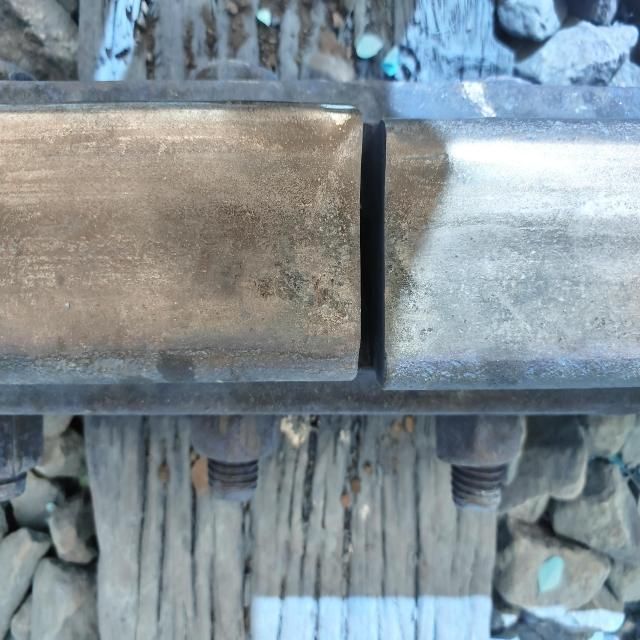railway_join_bar_defects_low: (345, 103, 407, 384)
